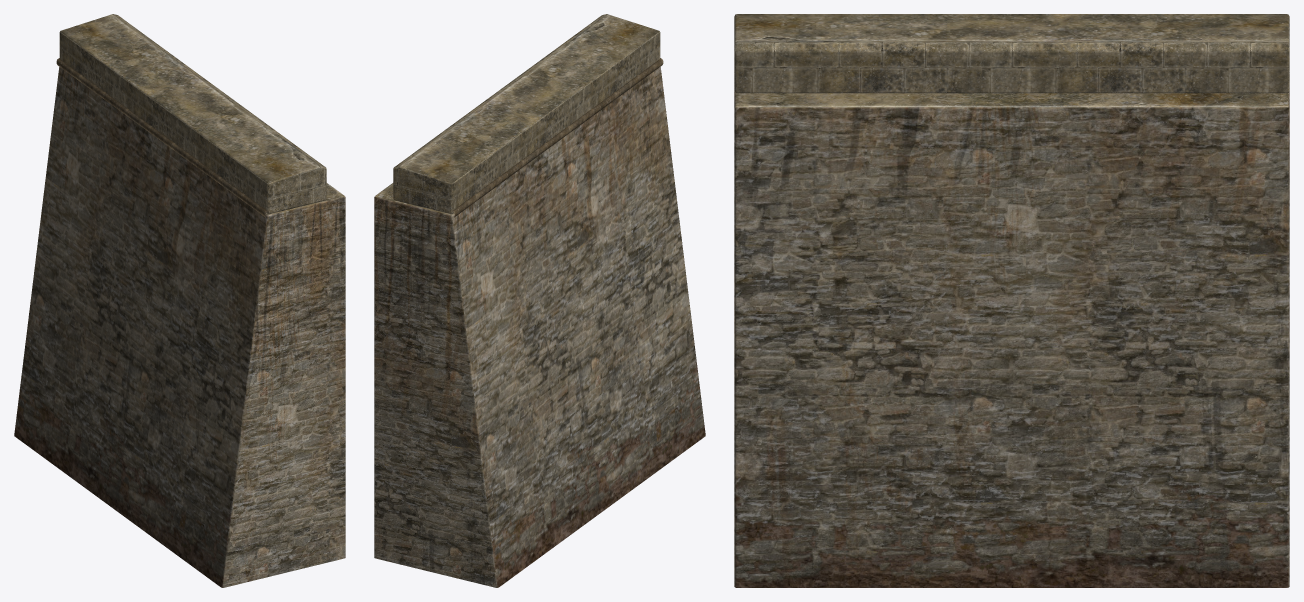
Rendered from modular_fort_01_wall_thin_straight_03.gltf.
The picture shows the model from 3 angles, left to right: view 1: azimuth 30°, elevation 25°; view 2: azimuth 150°, elevation 25°; view 3: azimuth 270°, elevation 25°; orthographic projection. The views are drawn at different scales.
Visible parts, largest first — view 1: modular_fort_01_wall_thin_straight_03__x; view 2: modular_fort_01_wall_thin_straight_03__x; view 3: modular_fort_01_wall_thin_straight_03__x.
Part boxes in pixels (x1,y1,x2,y2): modular_fort_01_wall_thin_straight_03__x: (14,14,345,587); modular_fort_01_wall_thin_straight_03__x: (374,14,705,587); modular_fort_01_wall_thin_straight_03__x: (734,14,1289,587).
Size of the model in its own units: 2.55 by 7.79 by 7.41.
2 materials, 2 textured.
